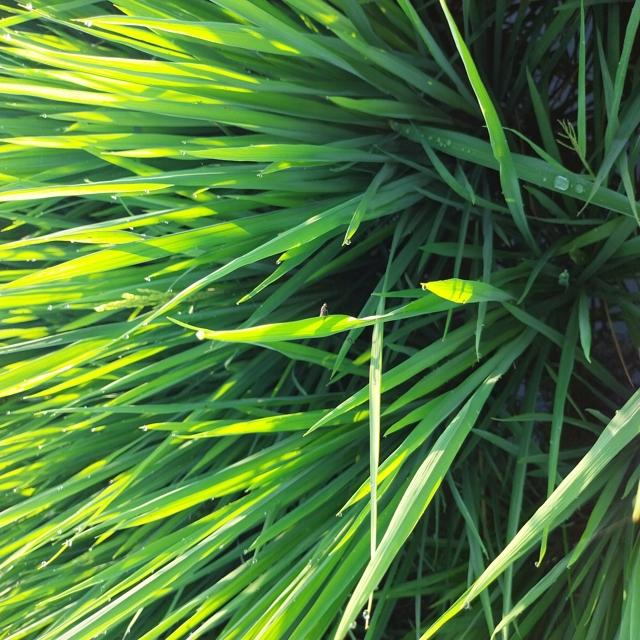healthy: (317, 293, 332, 323)
